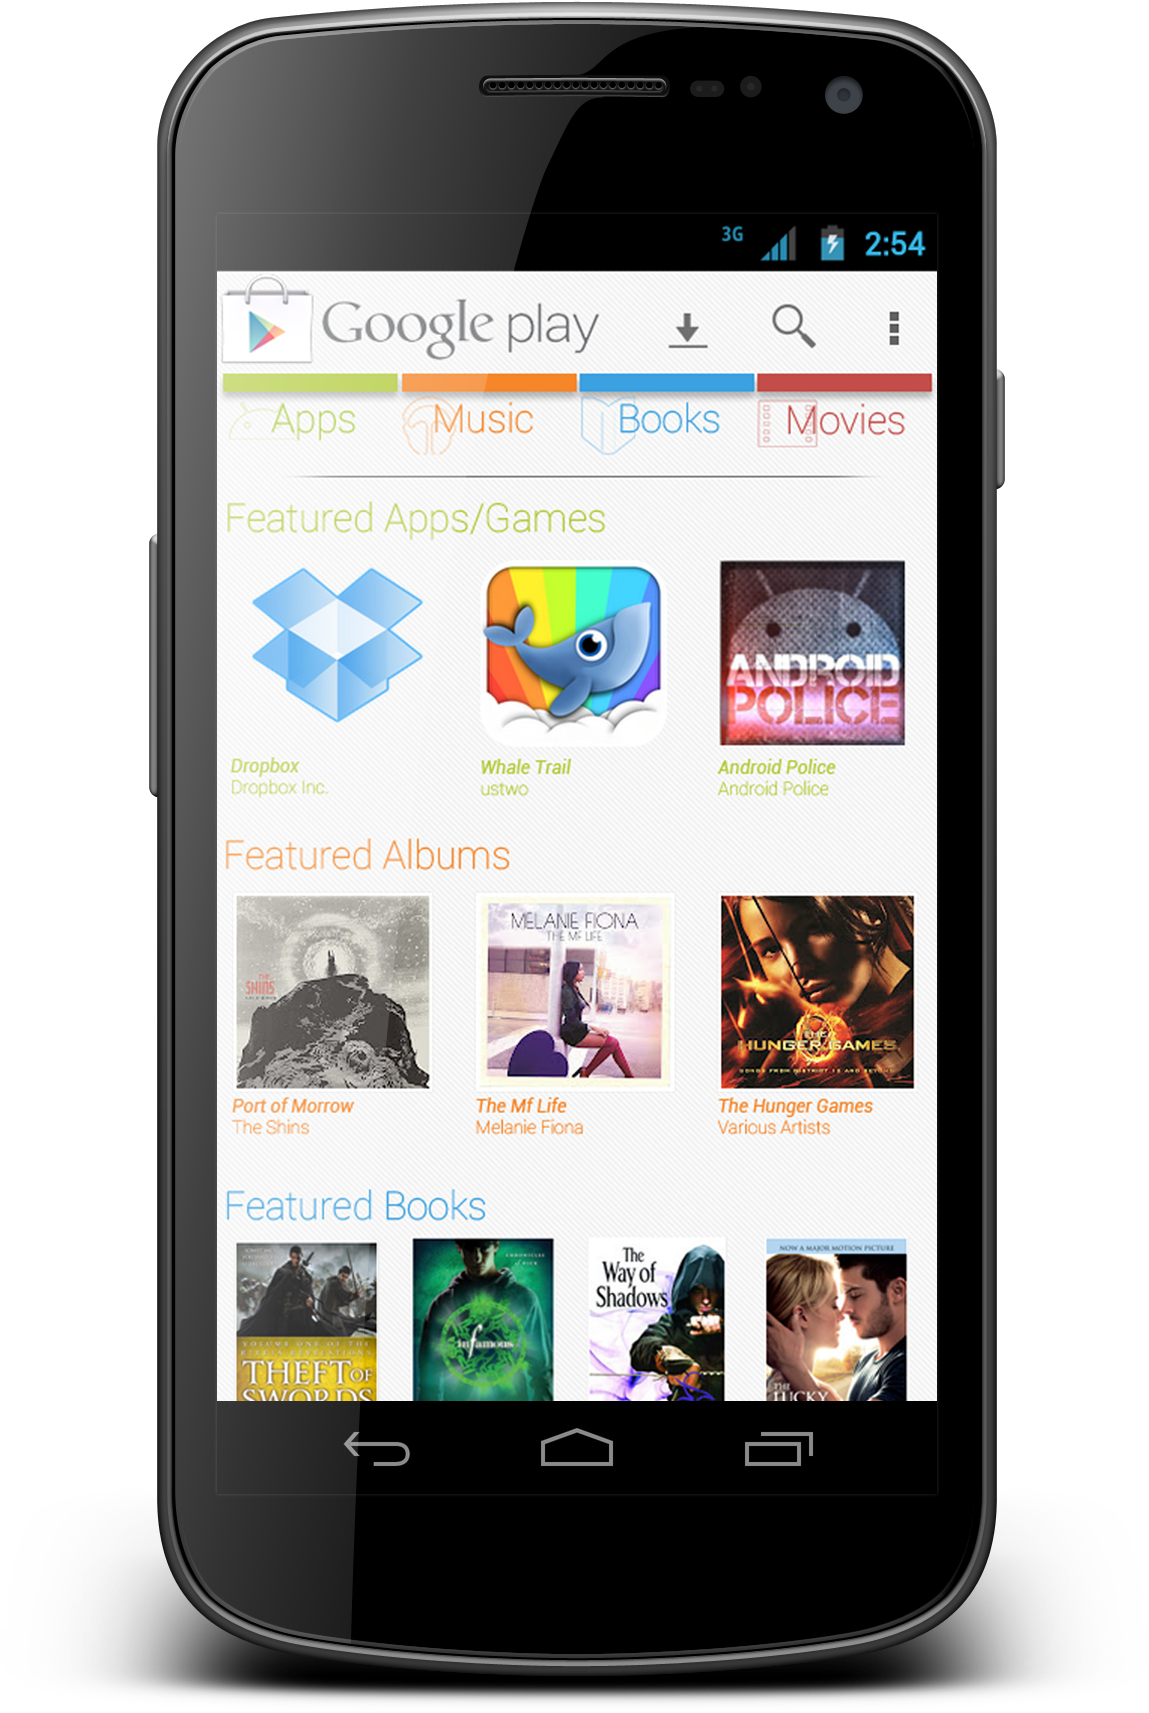phone: (138, 23, 1055, 1700)
